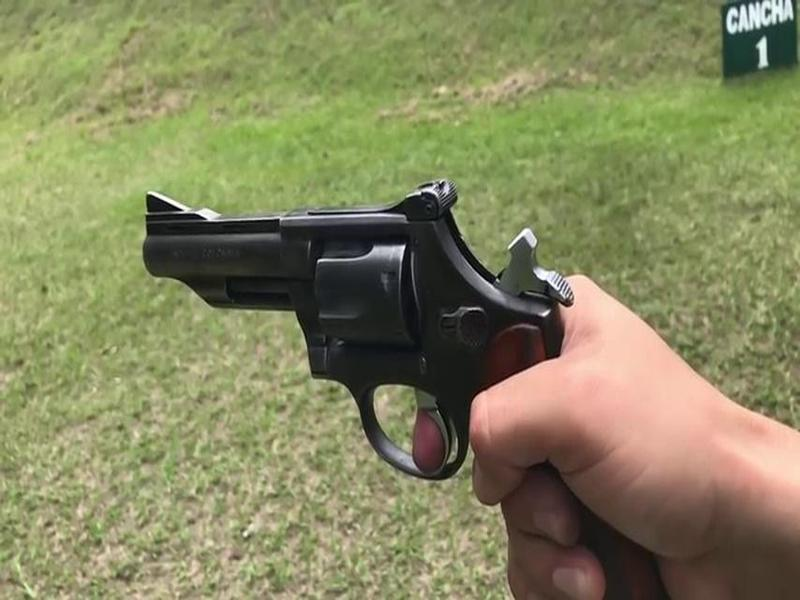Revolver: (138, 135, 571, 499)
